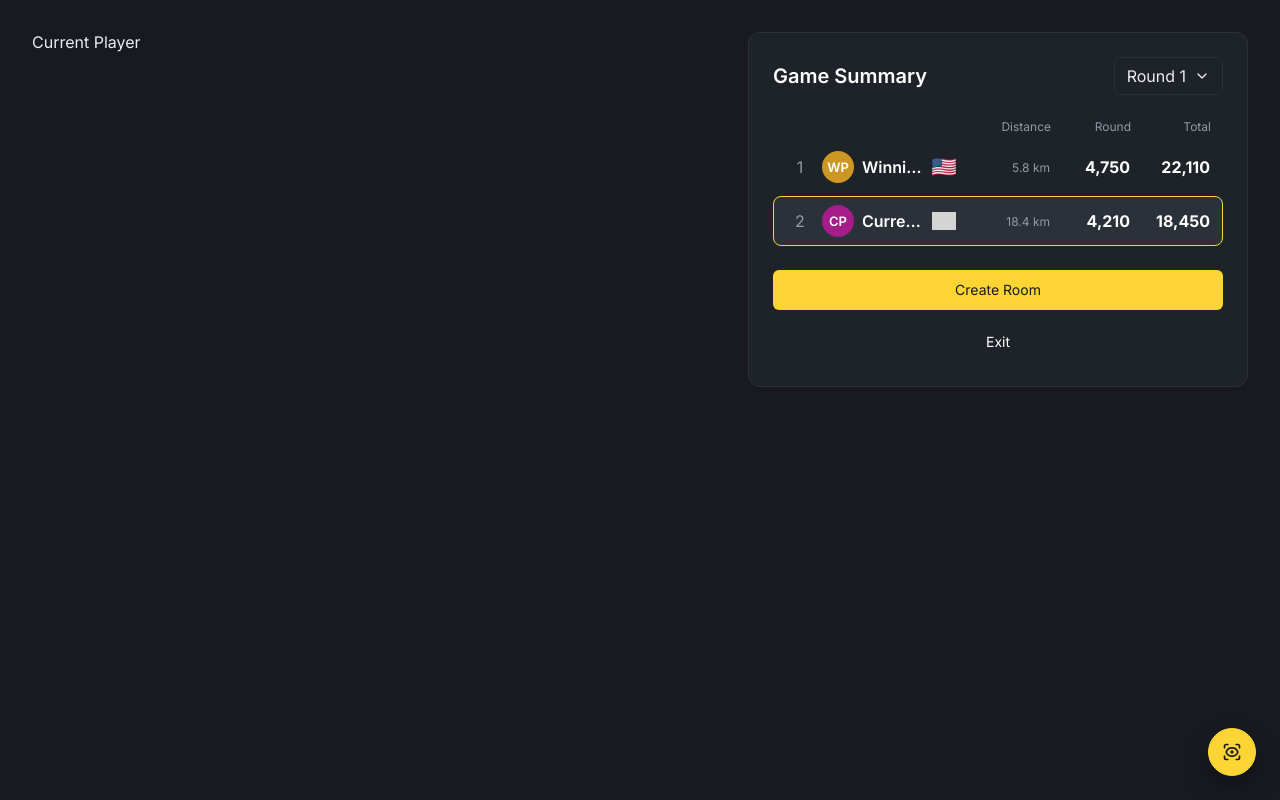
Test: should show missing round results as no guess and zero points
Click the button with aria-label "Round history": (1168, 76) [1114,57,1223,95]
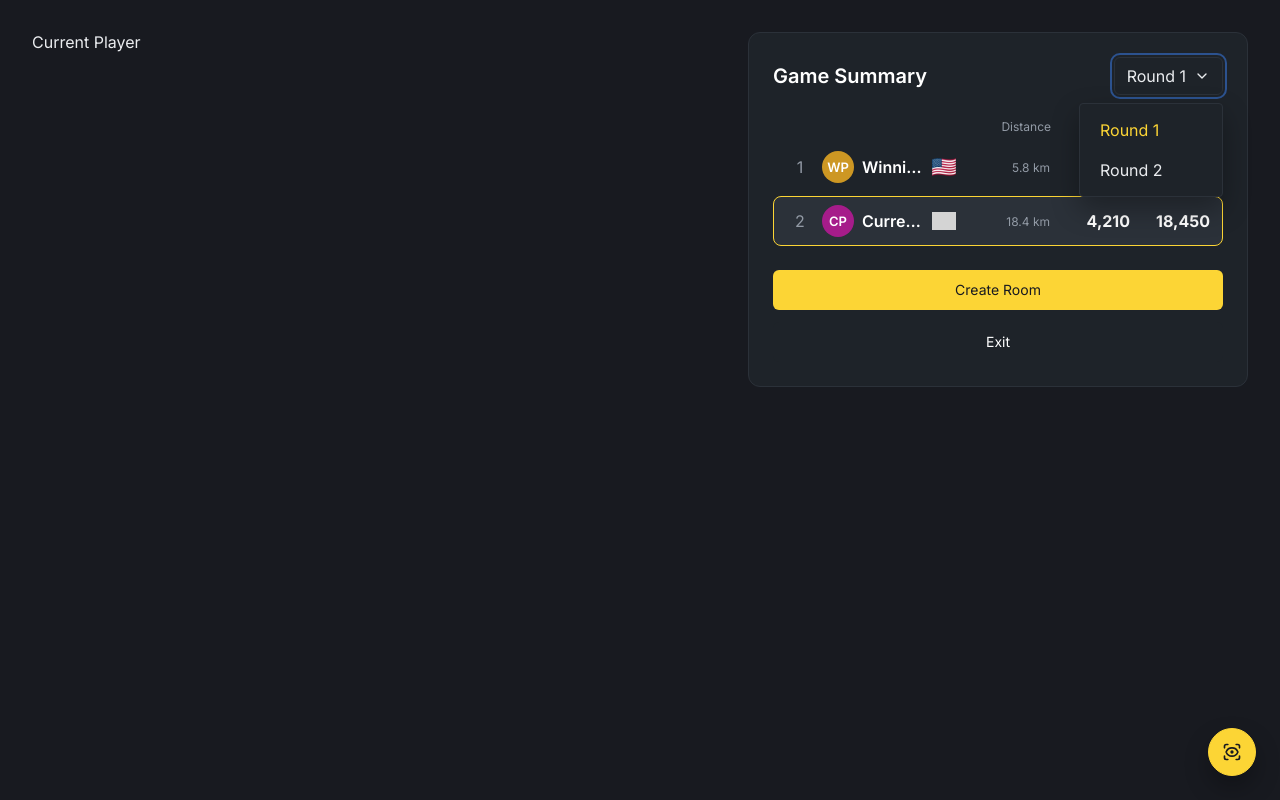
Click the menu item "Round 2": (1151, 170) [1088,152,1214,188]
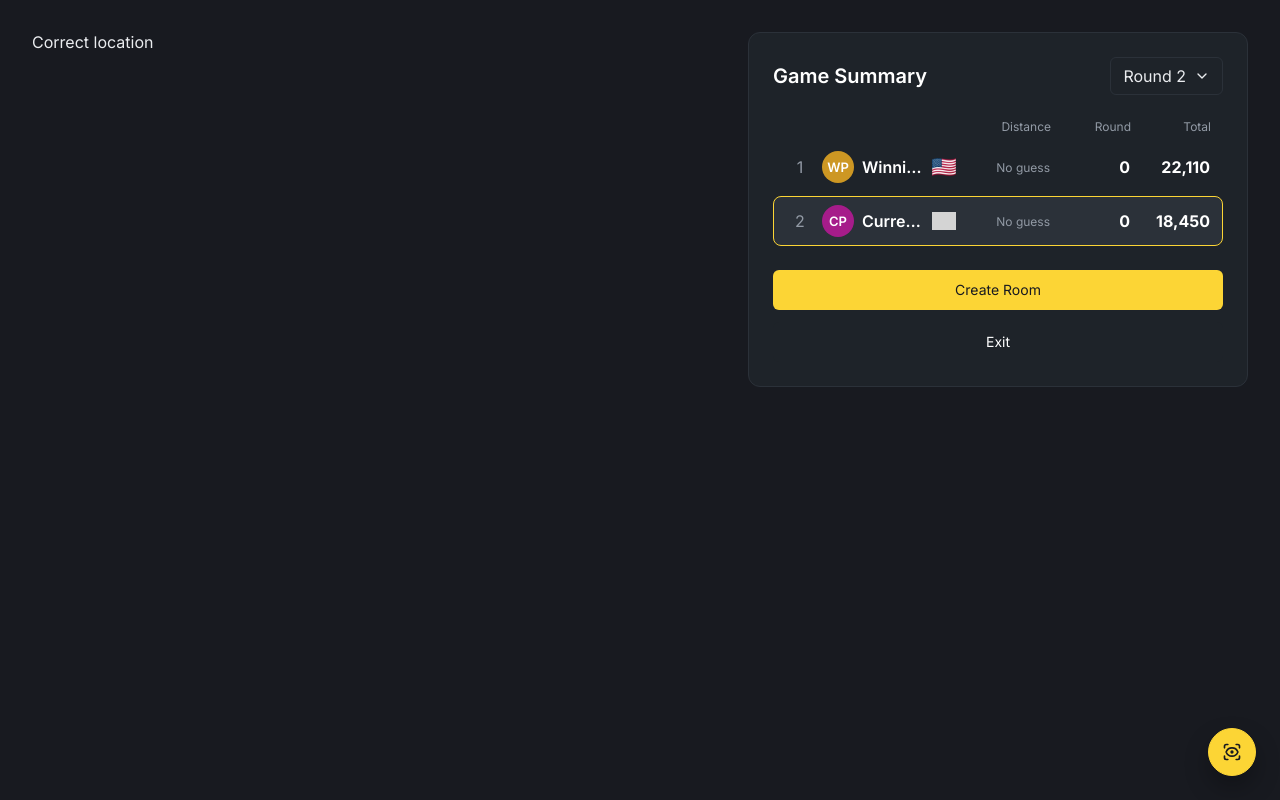
Expected: the button "Current Player" shows "0", [773,196,1223,246]
Now the button "Current Player" shows "No guess", box [773,196,1223,246]
